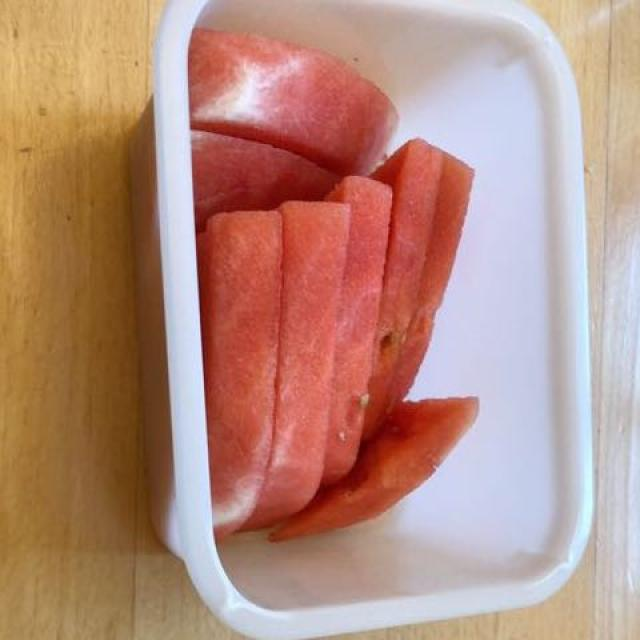watermelon-fresh: (174, 32, 526, 562)
